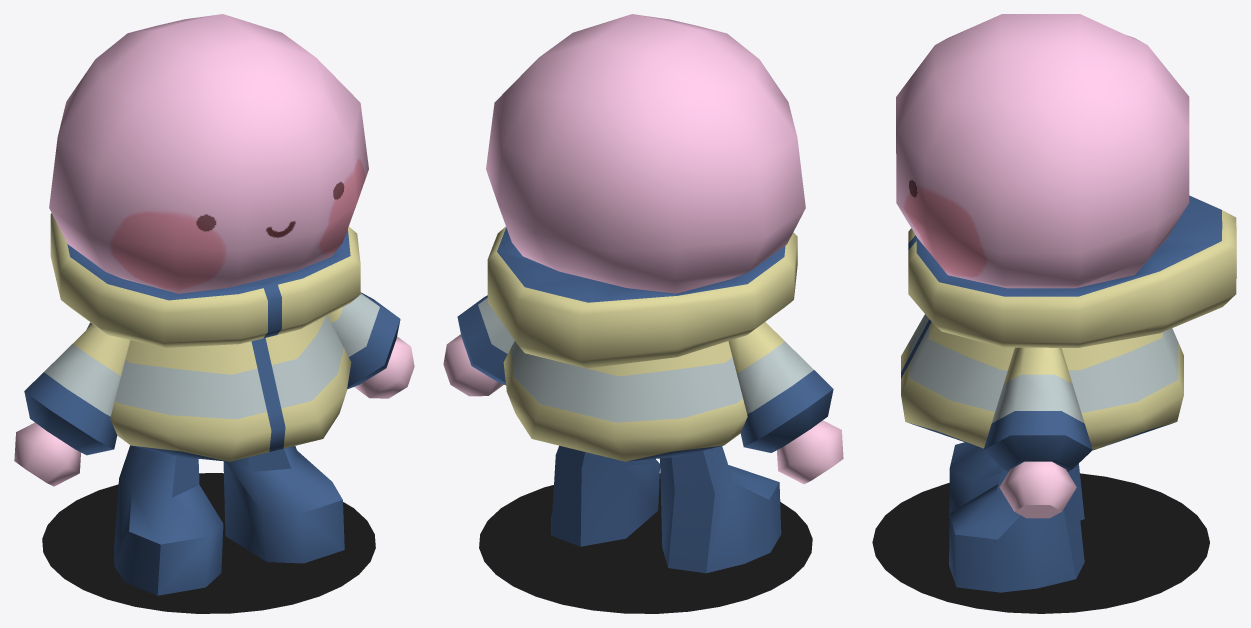
File: Player1Sprite.fbx
The picture shows the model from 3 angles, left to right: view 1: azimuth 30°, elevation 25°; view 2: azimuth 150°, elevation 25°; view 3: azimuth 270°, elevation 25°; orthographic projection.
Visible parts, largest first — view 1: Player1; view 2: Player1; view 3: Player1.
Part boxes in pixels (box(x1,y1,x2,y2)): Player1: box(14, 14, 414, 613); Player1: box(443, 14, 843, 613); Player1: box(872, 14, 1236, 613).
Bounding box in the file's own units: 140 × 175 × 112.
7 materials, 1 textured.
